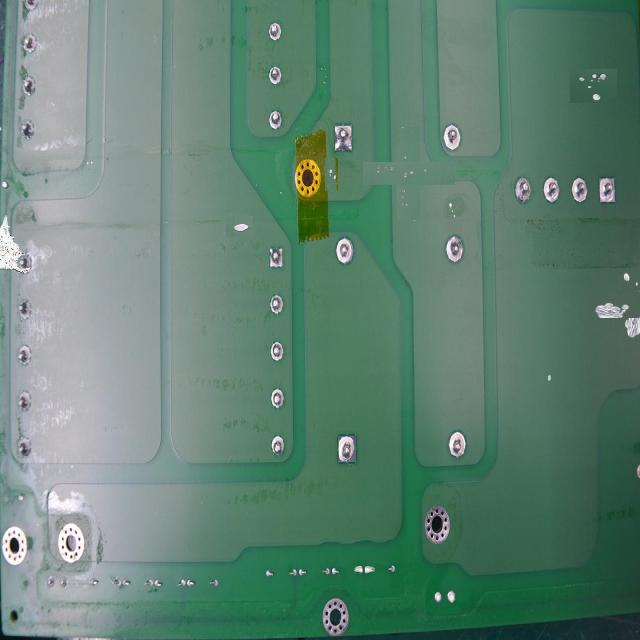spillover: (379, 144, 438, 203), (601, 279, 640, 330), (573, 66, 613, 107), (227, 215, 252, 239), (324, 157, 338, 191)
